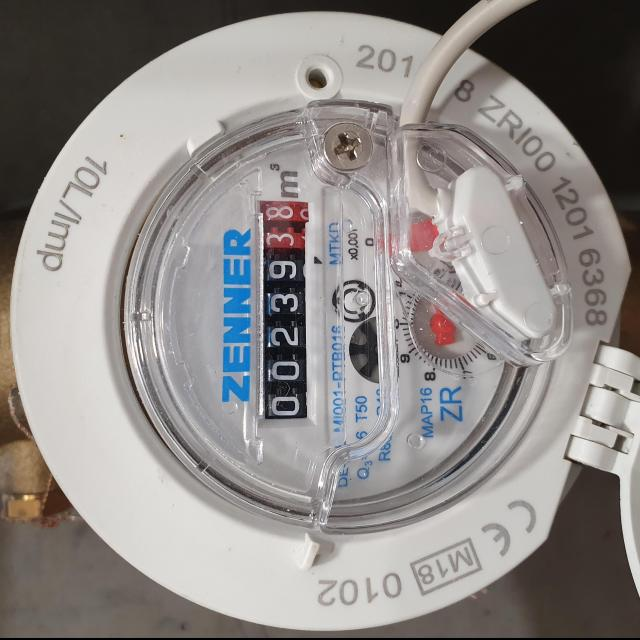gaz_meter: (12, 10, 631, 631)
indication: (255, 201, 310, 421)
